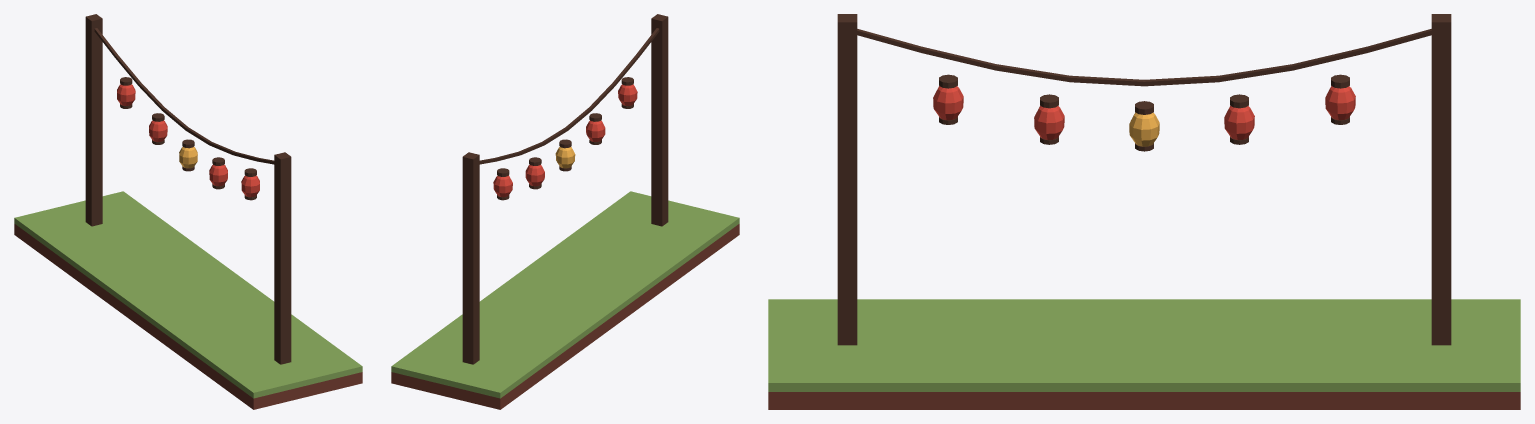
File: lantern-string.glb
3 renders of one model, left to right at view 1: azimuth 30°, elevation 25°; view 2: azimuth 150°, elevation 25°; view 3: azimuth 270°, elevation 25°, orthographic. The views are drawn at different scales.
Parts seen in each view (by area): view 1: lantern-string; view 2: lantern-string; view 3: lantern-string.
Part boxes in pixels (x1,y1,x2,y2): lantern-string: (14, 14, 362, 409); lantern-string: (391, 14, 739, 409); lantern-string: (768, 14, 1520, 409).
Size of the model in its own units: 1 by 1.95 by 3.8.
